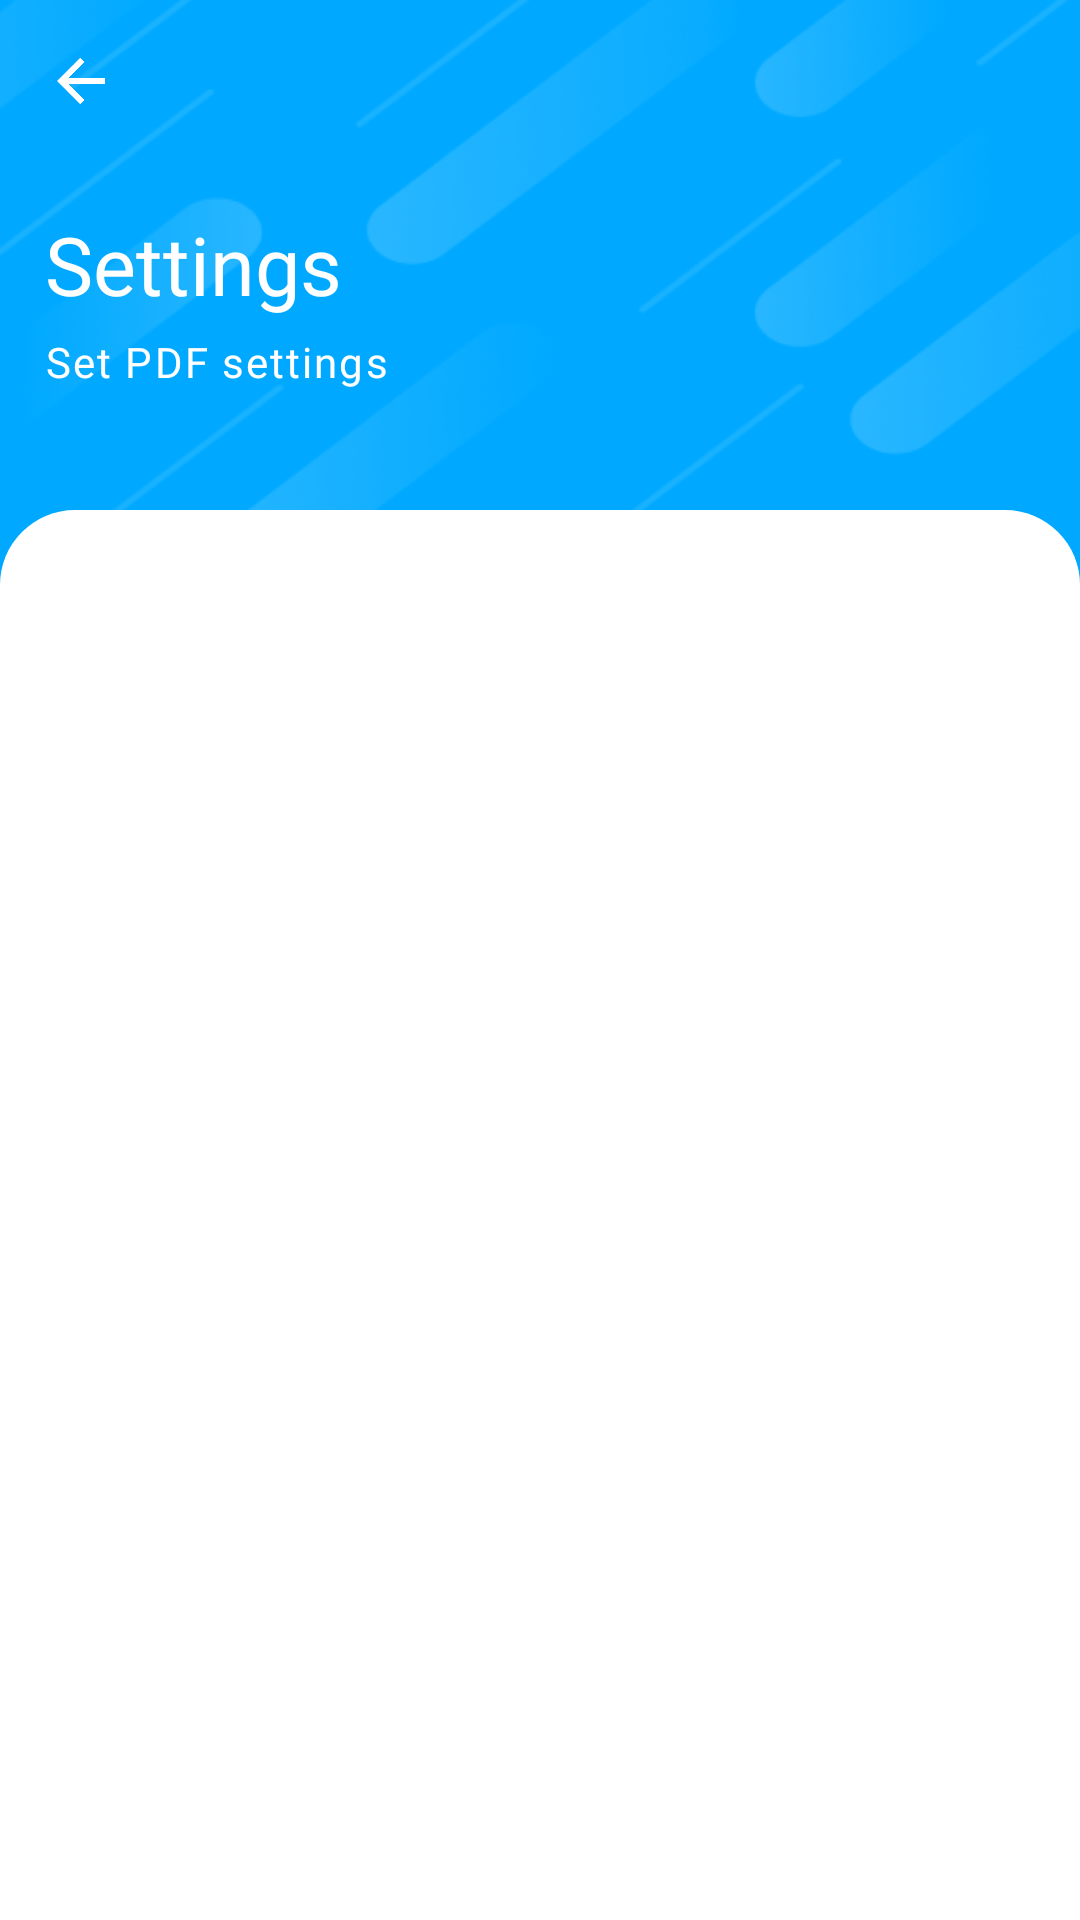

Where icons sit on this 1080x1920 app screen, as (left=x1, top=y1, right=x2, bottom=y2):
back: (left=57, top=52, right=116, bottom=104)
